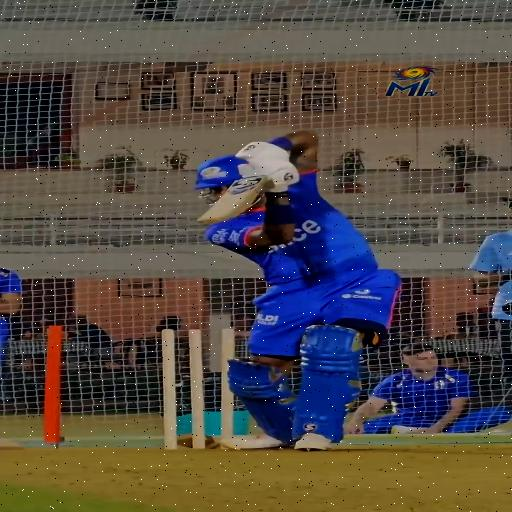Cricket bat: (198, 176, 269, 224)
